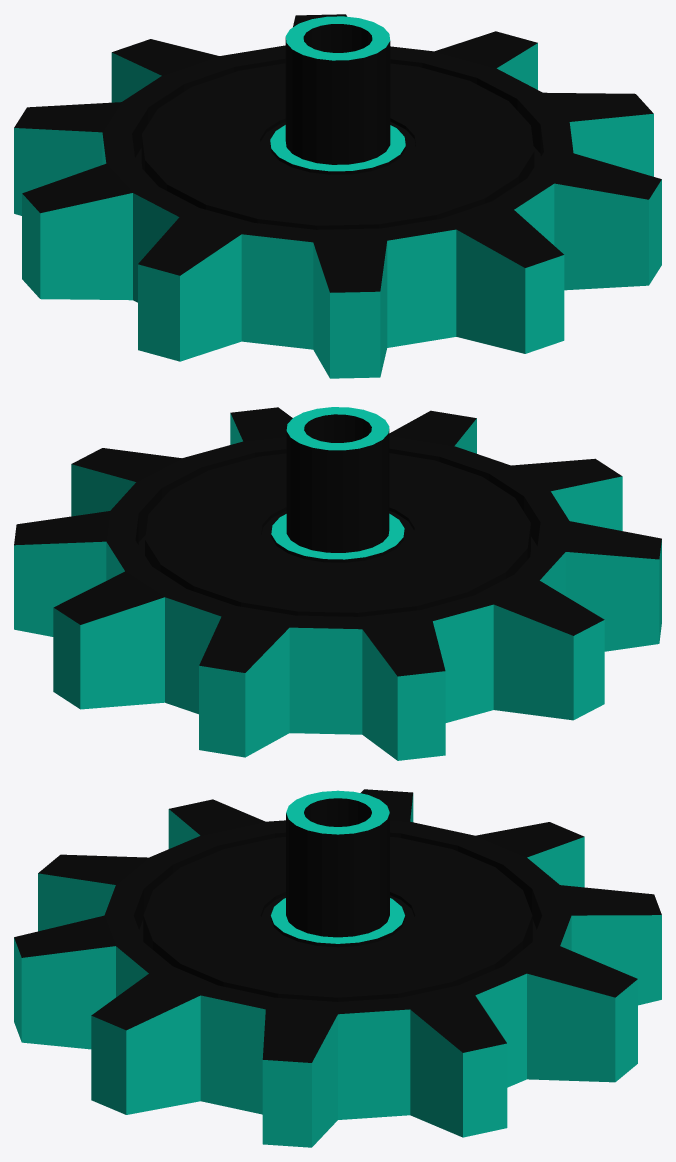
Rendered from D1GearV1.fbx.
3 views of the same model, one above another, from view 1: azimuth 30°, elevation 25°; view 2: azimuth 150°, elevation 25°; view 3: azimuth 270°, elevation 25° (orthographic).
Parts seen in each view (by area): view 1: d1GearV1; view 2: d1GearV1; view 3: d1GearV1.
Boxes of the visible parts, bbox=[...] form: d1GearV1: bbox=[14, 14, 661, 378]; d1GearV1: bbox=[14, 407, 661, 760]; d1GearV1: bbox=[14, 789, 661, 1147].
Size of the model in its own units: 2.77 by 0.9862 by 2.77.
